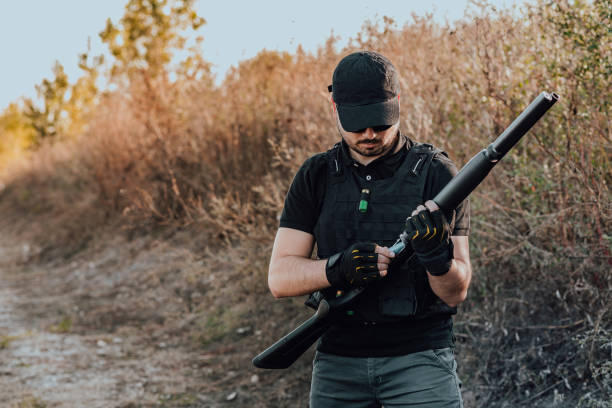gun: (248, 88, 561, 372)
